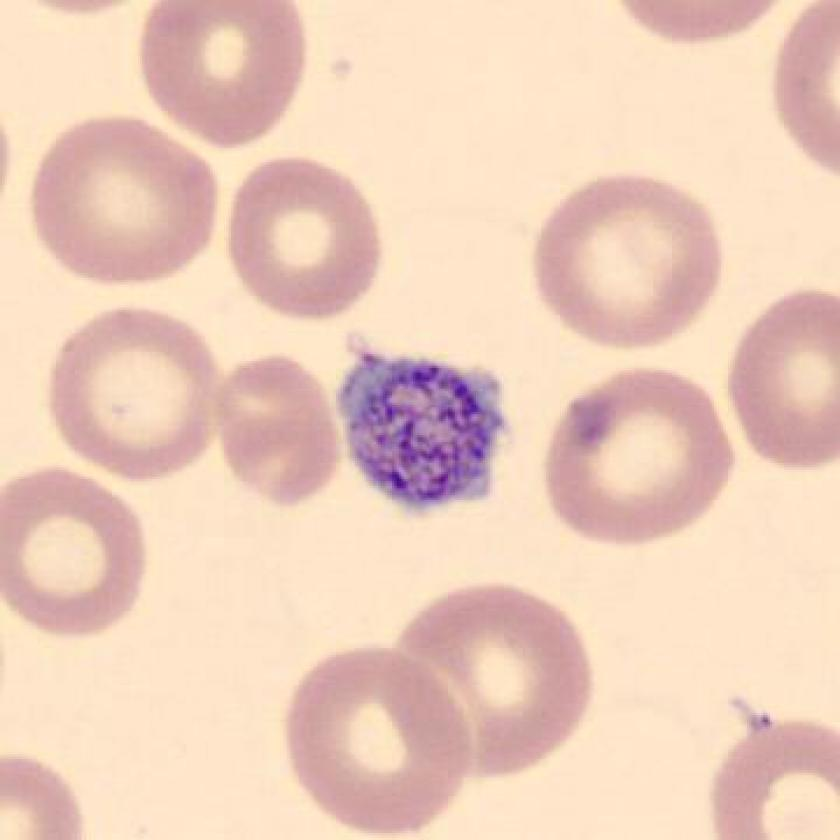platelets: (325, 327, 524, 538)
